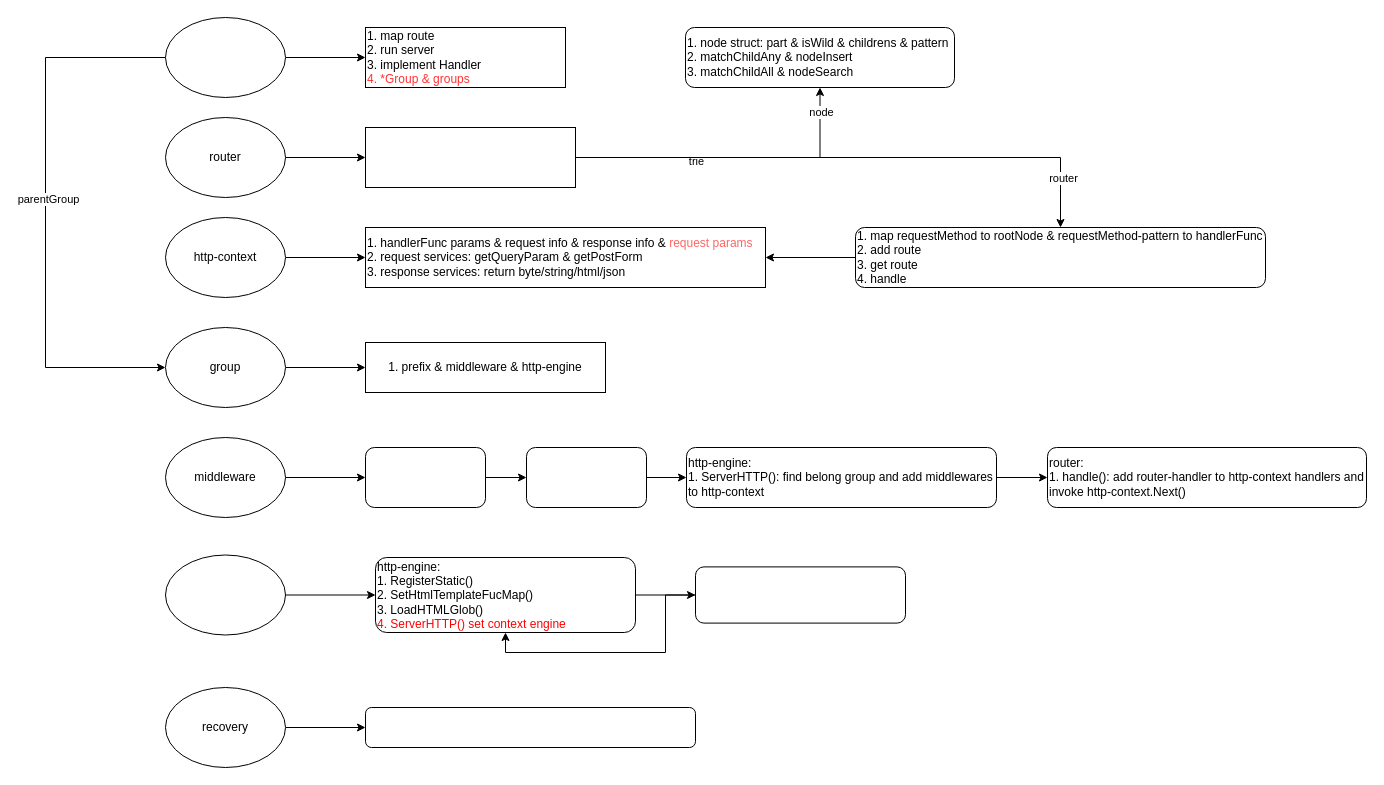
Image size: 1384x785. Some labels were removed from this diagram. Each missing label, with the box of its shape:
1. add route 2. find route and execute handlerFunc: (364, 126, 576, 188)
1. use defer and recovery() to define Recovery HandlerFunc: (364, 706, 696, 748)
group: 1. addMiddleware(): (526, 446, 646, 508)
http-context: 1. handlers & index 2. Next(): (364, 446, 486, 508)
http-context： 1. http-engine 2. update HTML() to executeTemplate: (694, 566, 906, 623)
http-engine: (164, 16, 286, 98)
template: (164, 554, 286, 635)
